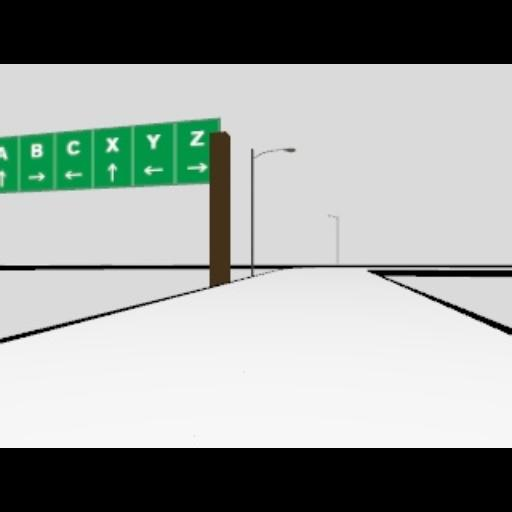A: (0, 146, 8, 160)
B: (28, 143, 42, 157)
C: (66, 139, 80, 155)
Left: (142, 165, 164, 175), (64, 169, 84, 179)
Right: (186, 162, 208, 172), (27, 171, 45, 181)
Straight: (106, 162, 116, 180), (0, 170, 4, 186)
X: (104, 136, 118, 152)
Y: (146, 131, 160, 149)
Z: (189, 130, 205, 146)
